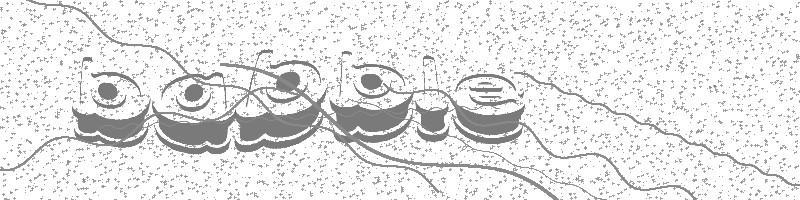a: (152, 70, 233, 156)
b: (233, 48, 329, 153), (331, 49, 411, 145), (72, 56, 151, 149)
e: (453, 73, 527, 145)
l: (414, 54, 451, 142)
